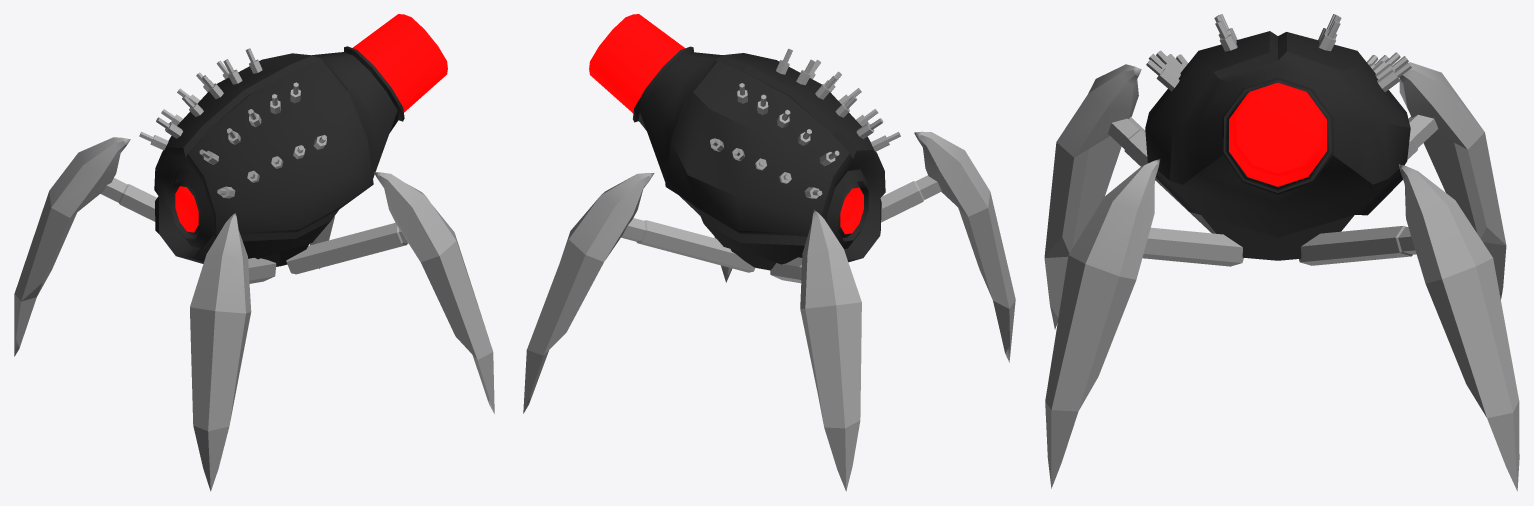
Rendered from Minebot.fbx.
The picture shows the model from 3 angles, left to right: view 1: azimuth 30°, elevation 25°; view 2: azimuth 150°, elevation 25°; view 3: azimuth 270°, elevation 25°; orthographic projection. The views are drawn at different scales.
Visible parts, largest first — view 1: pSphere1, pCylinder10, pCylinder11, pCylinder12, pCylinder18, pCylinder16, pCylinder14; view 2: pSphere1, pCylinder12, pCylinder13, pCylinder10, pCylinder17, pCylinder14, pCylinder16; view 3: pSphere1, pCylinder13, pCylinder11, pCylinder10, pCylinder12, pCylinder17, pCylinder18, pCylinder14, pCylinder16.
Part boxes in pixels (bbox=[...]): pSphere1: bbox=[154, 14, 447, 266]; pCylinder10: bbox=[190, 212, 251, 491]; pCylinder11: bbox=[374, 172, 494, 413]; pCylinder12: bbox=[14, 137, 130, 356]; pCylinder18: bbox=[286, 223, 408, 274]; pCylinder16: bbox=[100, 178, 156, 221]; pCylinder14: bbox=[248, 257, 276, 283]; pSphere1: bbox=[589, 14, 885, 270]; pCylinder12: bbox=[800, 209, 861, 491]; pCylinder13: bbox=[523, 173, 654, 413]; pCylinder10: bbox=[914, 131, 1015, 362]; pCylinder17: bbox=[621, 218, 755, 272]; pCylinder14: bbox=[880, 175, 941, 222]; pCylinder16: bbox=[770, 257, 802, 283]; pSphere1: bbox=[1145, 31, 1410, 260]; pCylinder13: bbox=[1399, 164, 1519, 491]; pCylinder11: bbox=[1045, 159, 1160, 488]; pCylinder10: bbox=[1044, 64, 1141, 329]; pCylinder12: bbox=[1399, 62, 1506, 299]; pCylinder17: bbox=[1299, 225, 1416, 265]; pCylinder18: bbox=[1142, 227, 1243, 266]; pCylinder14: bbox=[1108, 117, 1215, 233]; pCylinder16: bbox=[1407, 114, 1438, 159].
Bounding box in the file's own units: 7.12 × 6.77 × 6.94.
